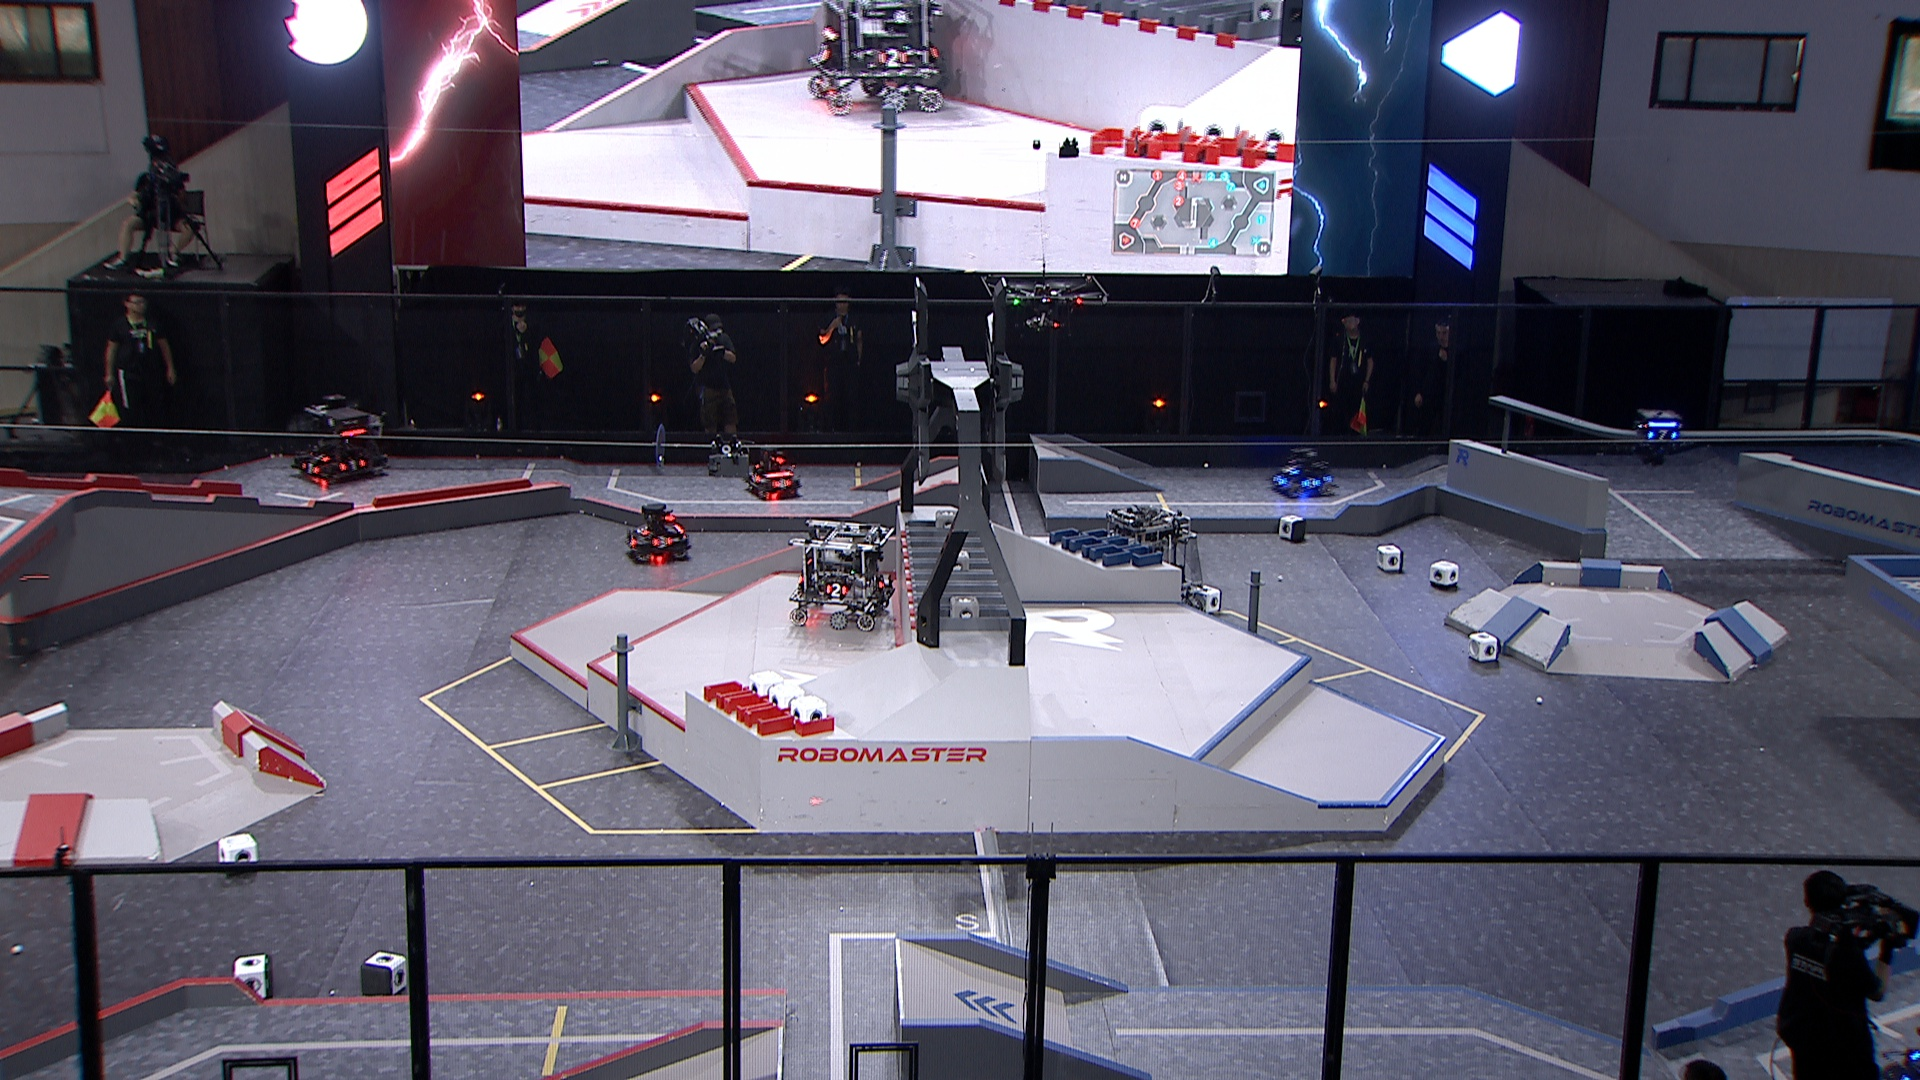armor: (338, 458, 371, 473), (823, 580, 849, 599), (1647, 427, 1679, 442), (295, 462, 320, 477), (310, 451, 334, 465), (1300, 476, 1323, 491), (651, 535, 673, 549), (773, 476, 793, 489), (1271, 473, 1290, 487), (632, 524, 650, 535), (1280, 465, 1300, 476), (746, 471, 761, 484), (626, 533, 638, 549)
car: (1101, 500, 1211, 618), (785, 518, 895, 633), (289, 396, 389, 488), (624, 500, 692, 564), (1266, 447, 1333, 500), (744, 448, 802, 501)
watcher: (1633, 406, 1685, 467)
